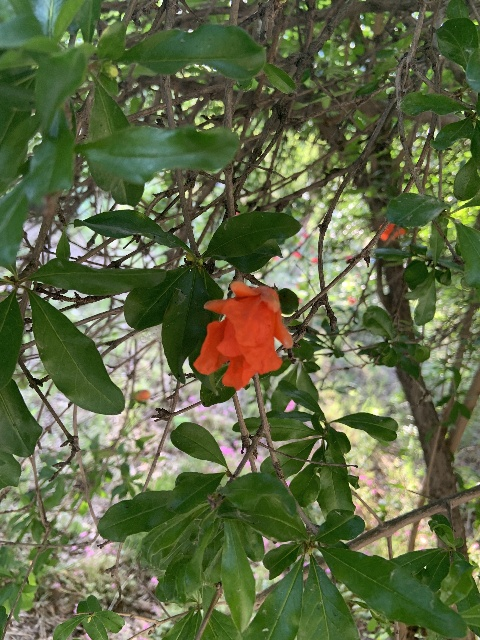flower: (193, 280, 292, 390), (379, 222, 406, 241)
